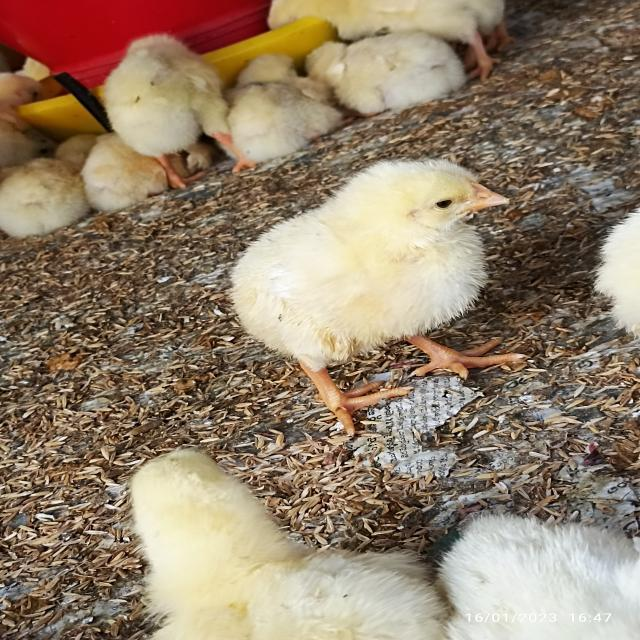poussin: (230, 154, 515, 432), (126, 435, 442, 640), (104, 30, 240, 179), (308, 35, 496, 129), (260, 1, 525, 56), (220, 52, 338, 160), (70, 130, 186, 208), (0, 160, 86, 239)
